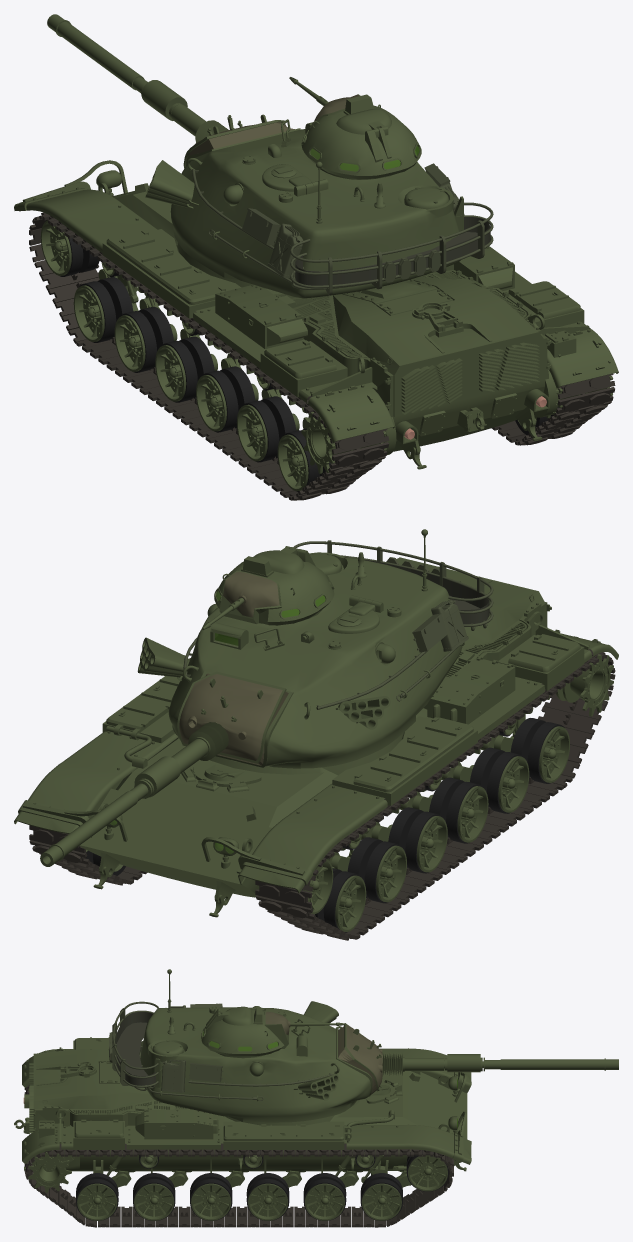
The picture shows the model from 3 angles, top to bottom: view 1: azimuth 30°, elevation 25°; view 2: azimuth 150°, elevation 25°; view 3: azimuth 270°, elevation 25°; orthographic projection. The views are drawn at different scales.
Parts seen in each view (by area): view 1: V_m60a3__Body_1, V_m60a3__Turret_2, V_m60a3__Body_3, V_m60a3__Turret_1, V_m60a3__Gun_1, V_m60a3__Body_2, V_m60a3__Turret_4, V_m60a3__W09_3, V_m60a3__W07_3, V_m60a3__W01_3, V_m60a3__W03_3, V_m60a3__W05_3 (+11 smaller); view 2: V_m60a3__Body_1, V_m60a3__Turret_2, V_m60a3__Body_3, V_m60a3__Gun_1, V_m60a3__Gun_2, V_m60a3__Turret_1, V_m60a3__Body_2, V_m60a3__W21_3, V_m60a3__Turret_5, V_m60a3__W09_3, V_m60a3__W11_3, V_m60a3__W07_3 (+12 smaller); view 3: V_m60a3__Body_1, V_m60a3__Turret_2, V_m60a3__Body_3, V_m60a3__Gun_1, V_m60a3__Turret_1, V_m60a3__Body_2, V_m60a3__Body_4, V_m60a3__Turret_4, V_m60a3__Gun_2, V_m60a3__W08_4, V_m60a3__W10_4, V_m60a3__W02_4 (+11 smaller).
Boxes of the visible parts, x1,y1,x2,y2 form: V_m60a3__Body_1: [14, 160, 618, 468]; V_m60a3__Turret_2: [145, 77, 463, 298]; V_m60a3__Body_3: [29, 212, 615, 500]; V_m60a3__Turret_1: [192, 163, 493, 295]; V_m60a3__Gun_1: [47, 14, 300, 168]; V_m60a3__Body_2: [98, 183, 610, 469]; V_m60a3__Turret_4: [295, 217, 490, 285]; V_m60a3__W09_3: [242, 396, 296, 462]; V_m60a3__W07_3: [201, 366, 255, 432]; V_m60a3__W01_3: [79, 277, 133, 342]; V_m60a3__W03_3: [120, 306, 173, 372]; V_m60a3__W05_3: [160, 336, 214, 402]; V_m60a3__Body_1: [14, 557, 618, 916]; V_m60a3__Turret_2: [137, 529, 464, 768]; V_m60a3__Body_3: [29, 664, 615, 940]; V_m60a3__Gun_1: [40, 671, 293, 866]; V_m60a3__Gun_2: [179, 673, 288, 765]; V_m60a3__Turret_1: [183, 540, 493, 709]; V_m60a3__Body_2: [93, 597, 610, 917]; V_m60a3__W21_3: [540, 654, 613, 716]; V_m60a3__Turret_5: [223, 571, 279, 617]; V_m60a3__W09_3: [470, 747, 523, 813]; V_m60a3__W11_3: [510, 718, 564, 783]; V_m60a3__W07_3: [429, 777, 483, 843]; V_m60a3__Body_1: [14, 1037, 471, 1174]; V_m60a3__Turret_2: [140, 969, 370, 1122]; V_m60a3__Body_3: [24, 1085, 453, 1227]; V_m60a3__Gun_1: [336, 1023, 618, 1096]; V_m60a3__Turret_1: [109, 1001, 332, 1100]; V_m60a3__Body_2: [14, 1037, 466, 1187]; V_m60a3__Body_4: [24, 1144, 452, 1227]; V_m60a3__Turret_4: [115, 1011, 155, 1085]; V_m60a3__Gun_2: [338, 1025, 382, 1094]; V_m60a3__W08_4: [191, 1183, 231, 1220]; V_m60a3__W10_4: [134, 1183, 174, 1220]; V_m60a3__W02_4: [361, 1183, 401, 1220].
Bounding box in the file's own units: 10.07 × 9.26 × 26.19.
